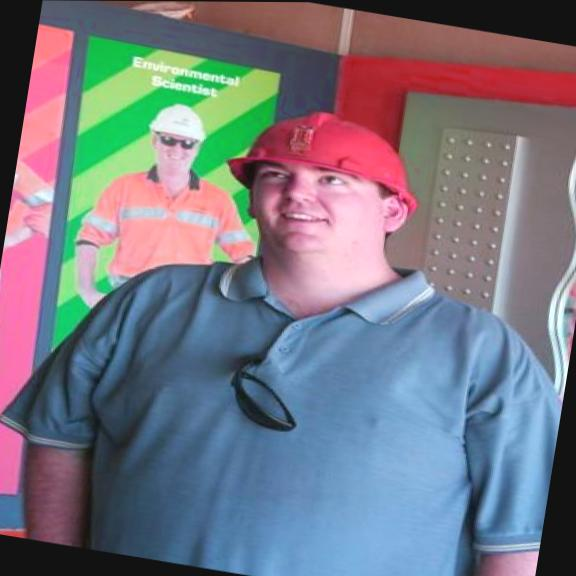safety_vest: (66, 158, 266, 315)
